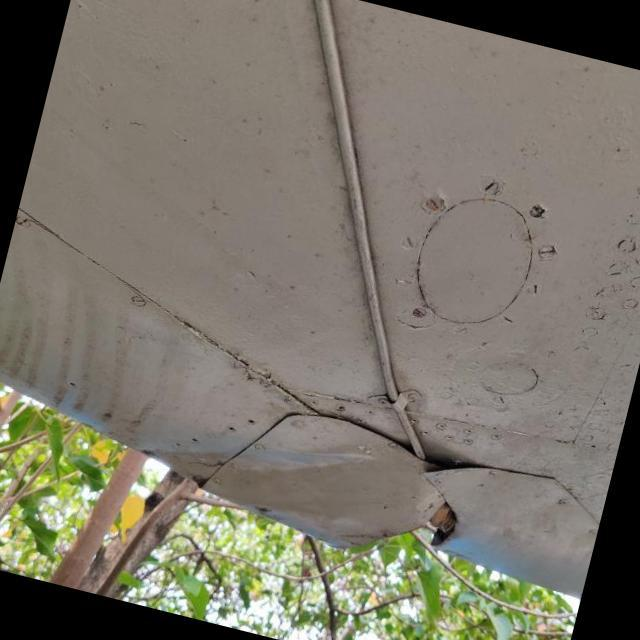Dent: (110, 383, 402, 572)
